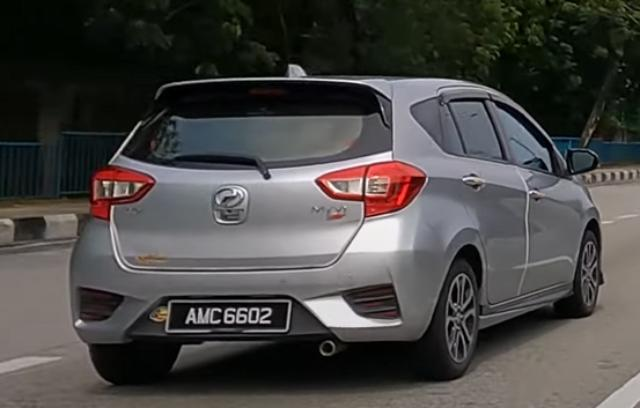License_Plate: (164, 299, 292, 336)
car: (68, 69, 606, 387)
